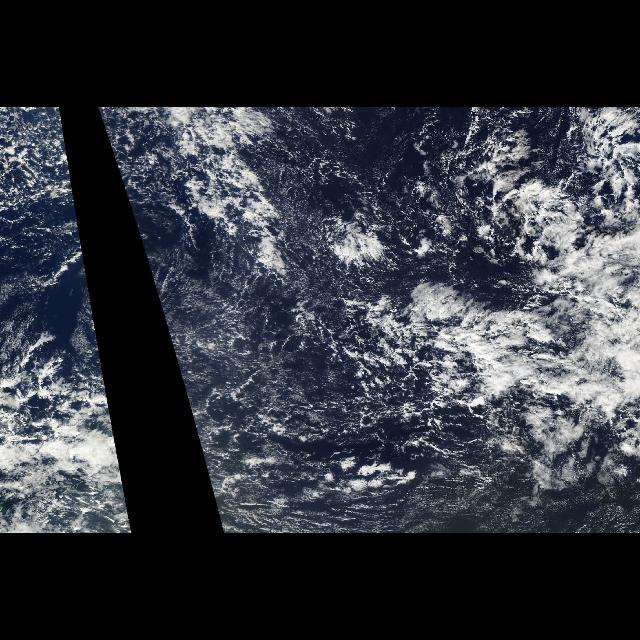Gravel: (162, 132, 562, 534)
Sugar: (241, 488, 545, 534)
